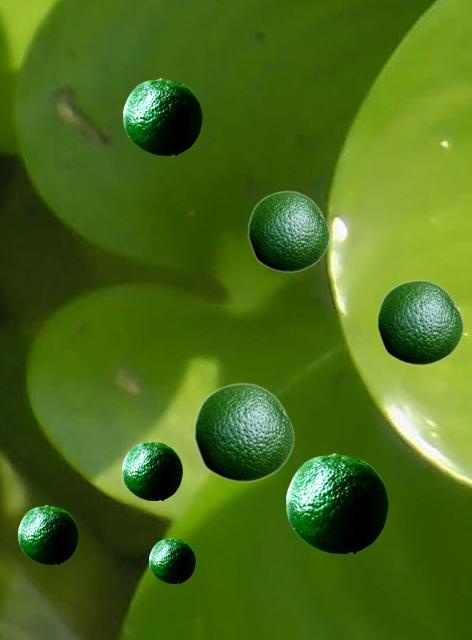calamansi: (193, 382, 294, 482), (286, 453, 387, 552), (376, 279, 463, 365), (247, 190, 329, 272), (123, 78, 201, 154), (18, 505, 77, 563), (122, 441, 181, 499), (149, 538, 194, 582)
